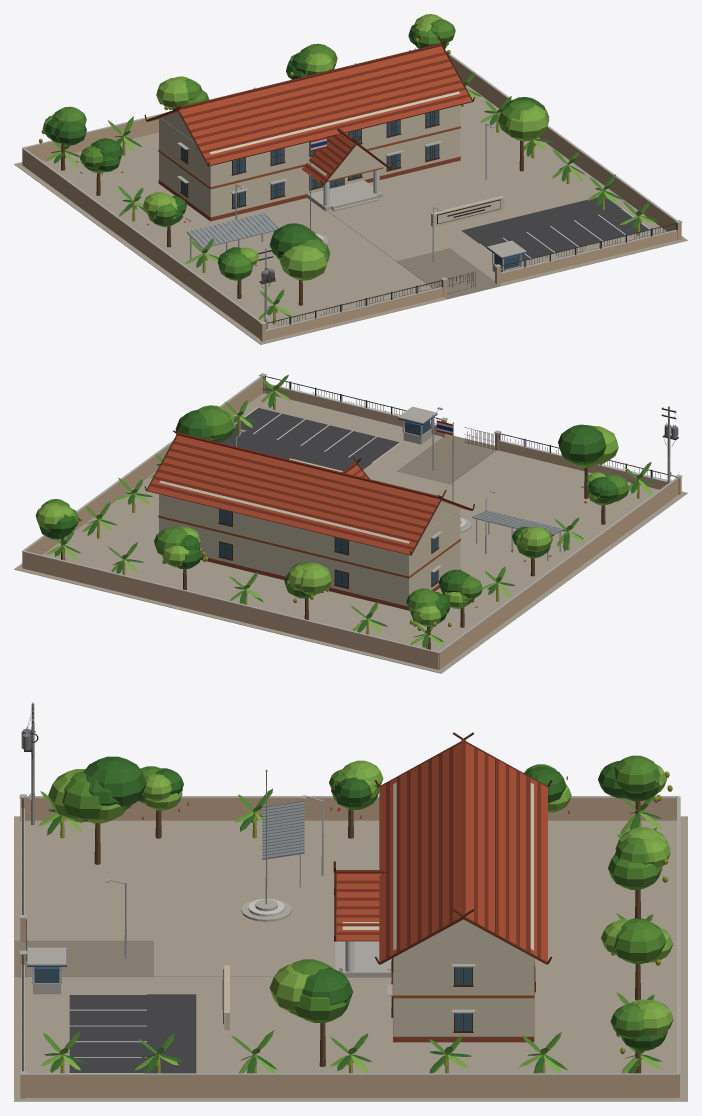
The model's file is police.glb.
3 renders of one model, top to bottom at view 1: azimuth 30°, elevation 25°; view 2: azimuth 150°, elevation 25°; view 3: azimuth 270°, elevation 25°, orthographic. The views are drawn at different scales.
Visible parts, largest first — view 1: body, windows; view 2: body, windows; view 3: body, windows.
Boxes of the visible parts, x1=… form: body: x1=14, y1=14, x2=687, y2=344; windows: x1=181, y1=110, x2=519, y2=269; body: x1=14, y1=373, x2=687, y2=673; windows: x1=219, y1=420, x2=438, y2=587; body: x1=14, y1=702, x2=687, y2=1101; windows: x1=34, y1=963, x2=534, y2=1030.
Bounding box in the file's own units: 47.9 × 11.17 × 47.9.
